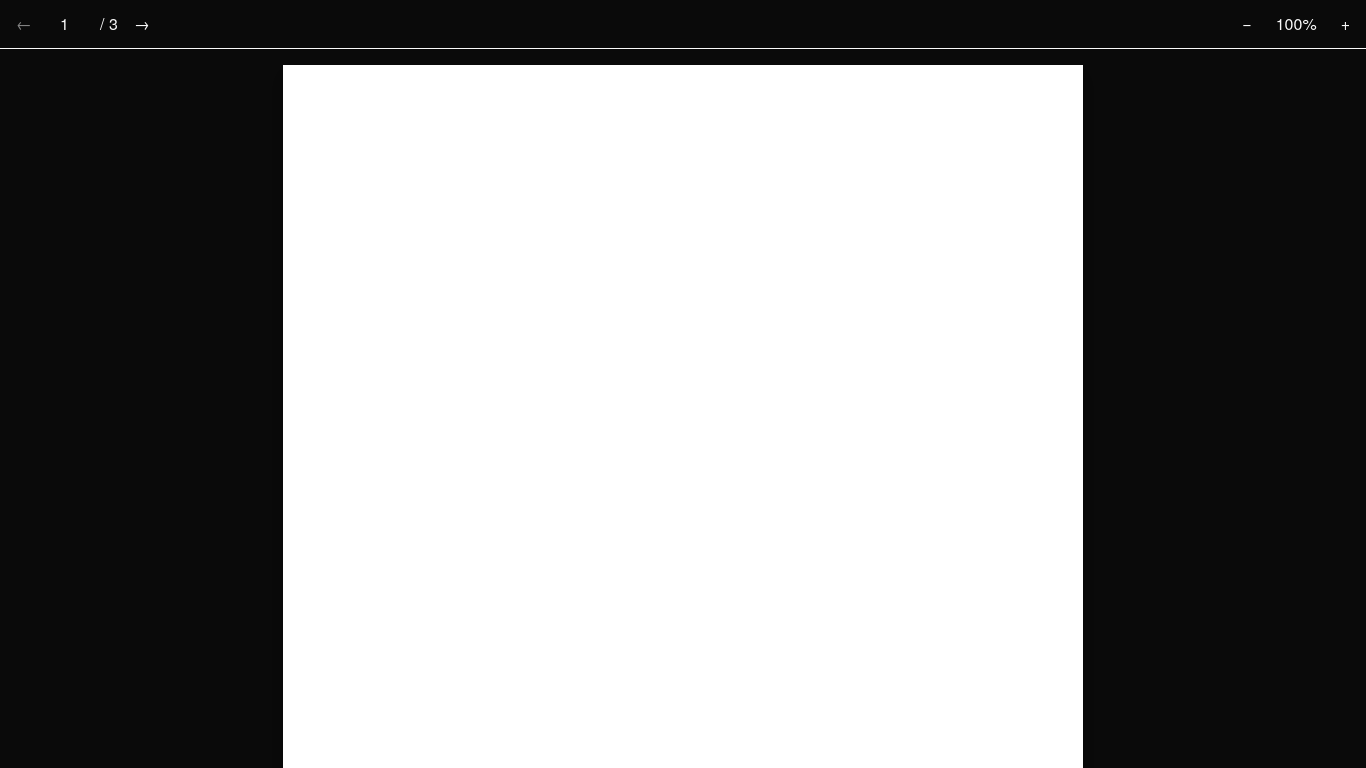
PdfViewer › navigates to previous page
This screenshot has width=1366, height=768.
// Go to page 2 first
Click the button named "Next page" at (142, 24), box [126,8,158,40]
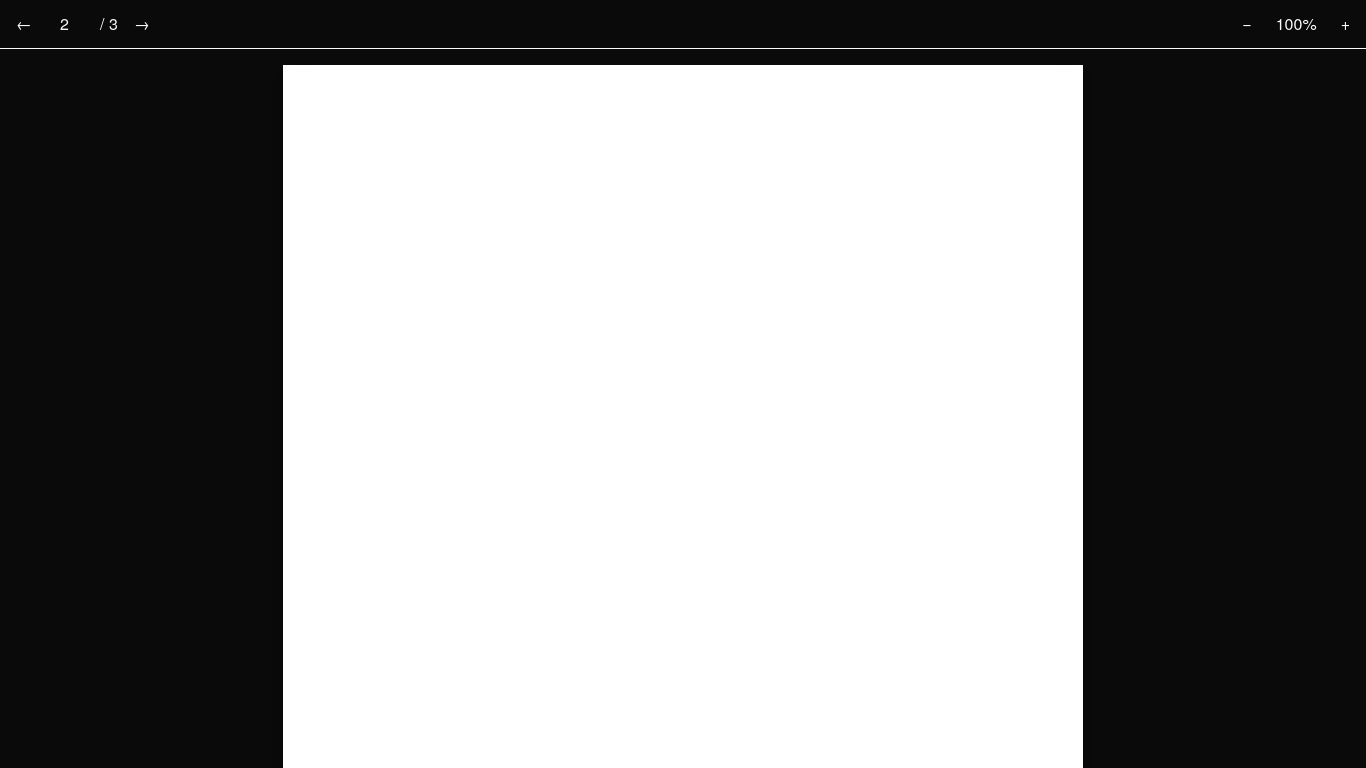
Expected: the number field named "Current page" holds "2", [48,10,96,38]
// Then go back to page 1
Click the button named "Previous page" at (24, 24), box [8,8,40,40]
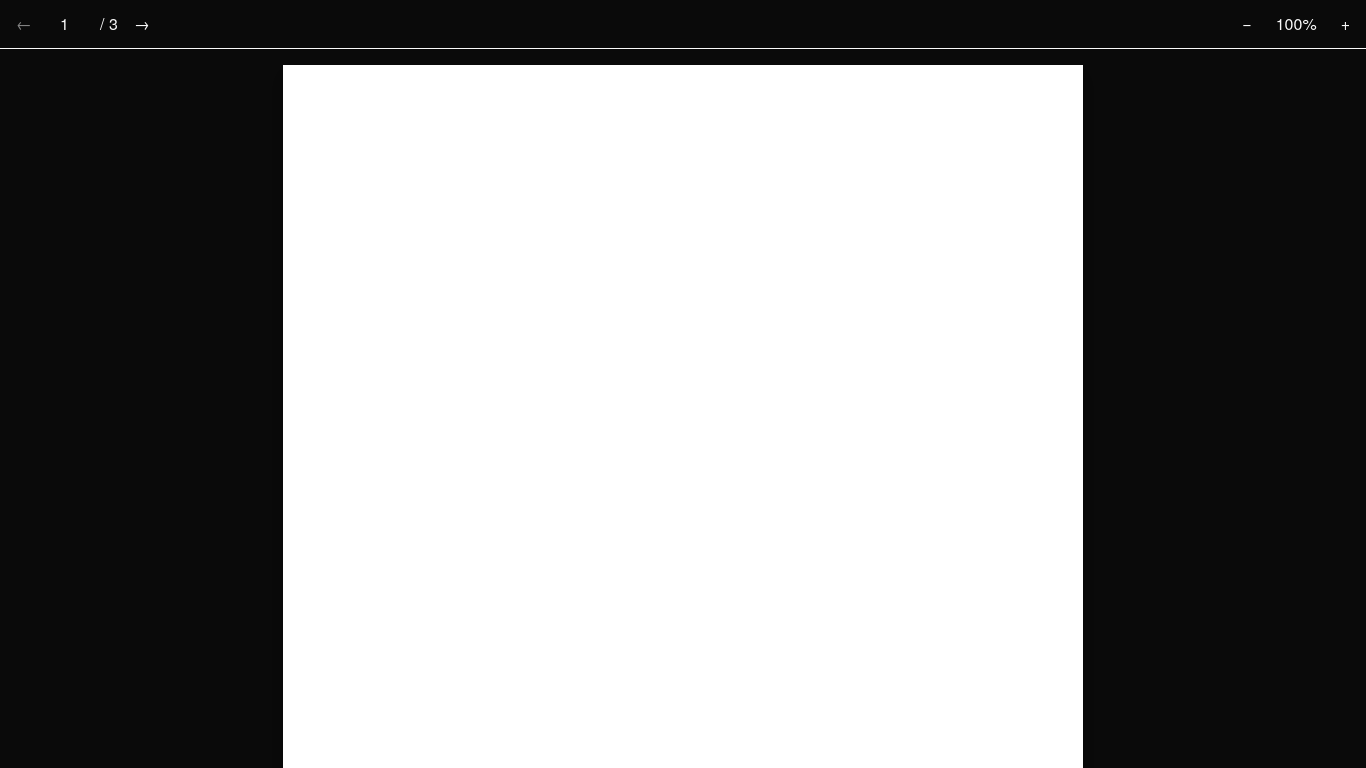
Expected: the number field named "Current page" holds "1", [48,10,96,38]
